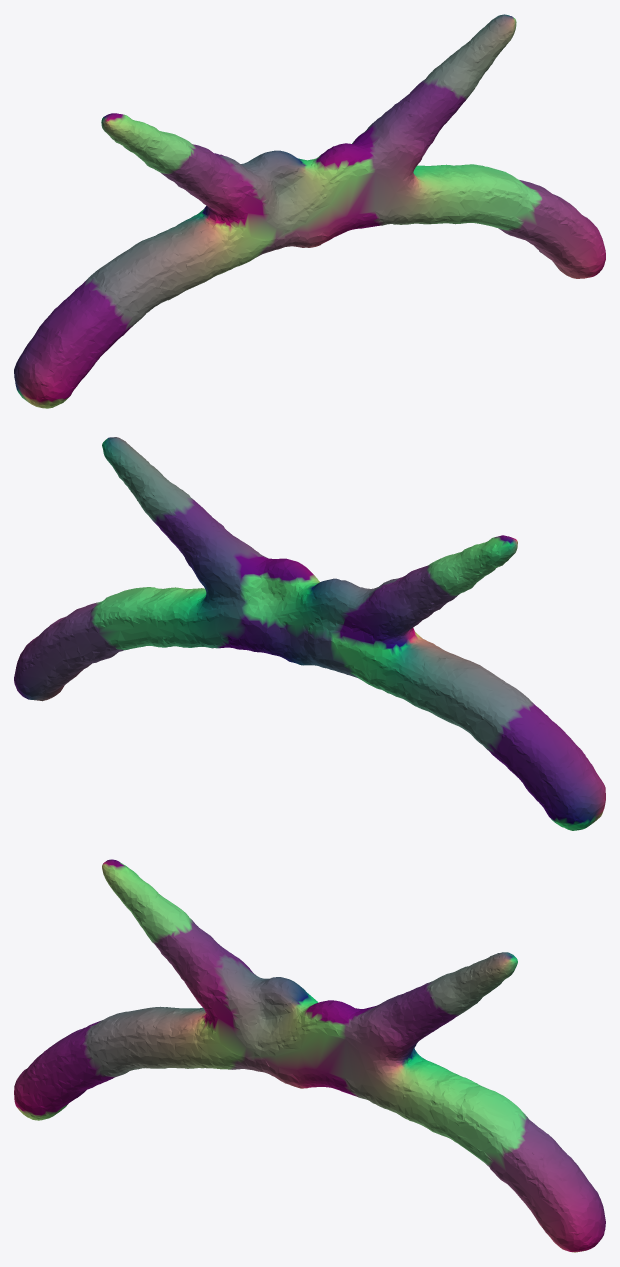
File: pliers-7.off.obj
The picture shows the model from 3 angles, top to bottom: view 1: azimuth 30°, elevation 25°; view 2: azimuth 150°, elevation 25°; view 3: azimuth 330°, elevation 25°; orthographic projection.
Bounding box in the file's own units: 1.71 × 0.779 × 0.1699.
